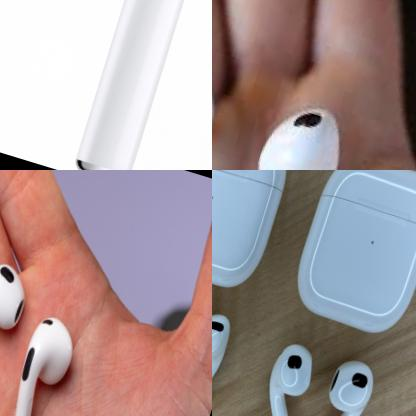Airpods: (58, 0, 212, 170), (212, 82, 363, 170), (0, 312, 80, 416), (246, 336, 319, 416), (303, 351, 387, 416), (0, 260, 33, 404), (212, 306, 240, 416)
